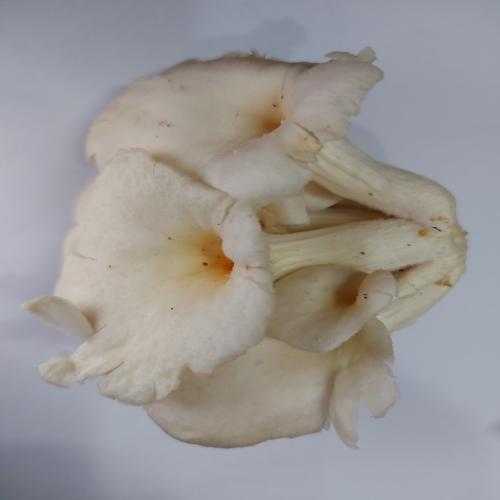Oyster Mushroom: (23, 45, 469, 450)
